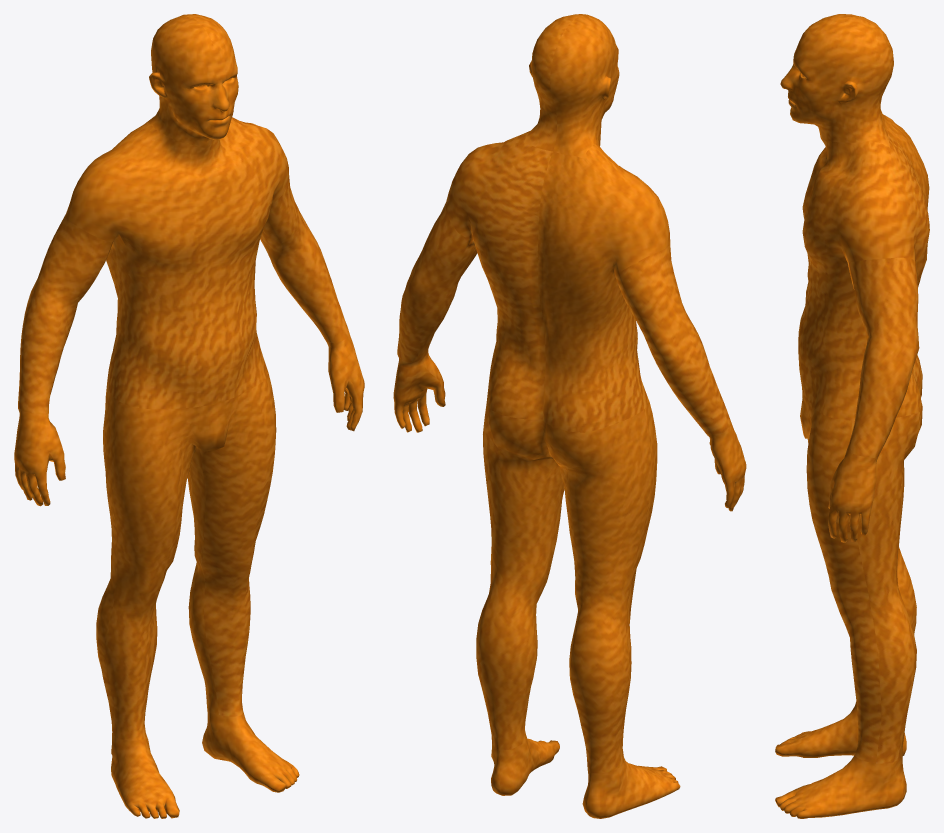
The model's file is character-2.obj.
The picture shows the model from 3 angles, left to right: view 1: azimuth 30°, elevation 25°; view 2: azimuth 150°, elevation 25°; view 3: azimuth 270°, elevation 25°; orthographic projection.
Parts seen in each view (by area): view 1: Realistic_White_Male_Low_Poly:Realistic_White_Male_Low_Poly; view 2: Realistic_White_Male_Low_Poly:Realistic_White_Male_Low_Poly; view 3: Realistic_White_Male_Low_Poly:Realistic_White_Male_Low_Poly.
Part boxes in pixels (x1,y1,x2,y2): Realistic_White_Male_Low_Poly:Realistic_White_Male_Low_Poly: (14,14,364,818); Realistic_White_Male_Low_Poly:Realistic_White_Male_Low_Poly: (393,14,746,818); Realistic_White_Male_Low_Poly:Realistic_White_Male_Low_Poly: (775,14,929,818).
Size of the model in its own units: 33.63 by 72.02 by 13.22.
1 material, 1 textured.
